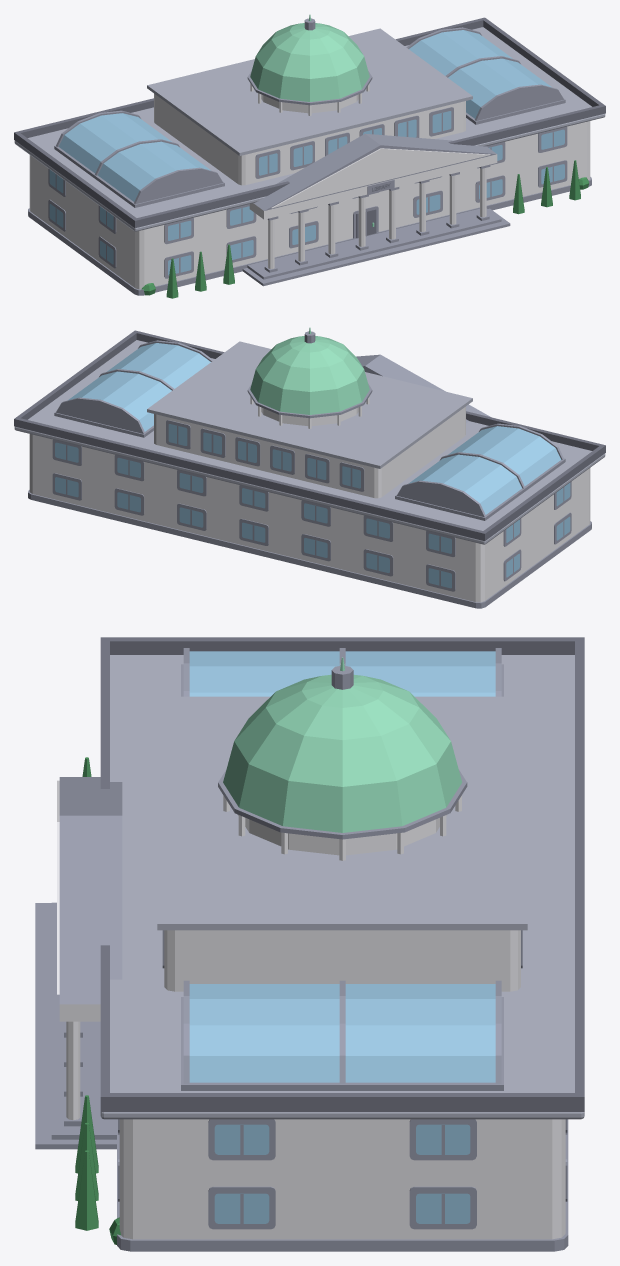
The model's file is library-4x2.glb.
3 views of the same model, one above another, from view 1: azimuth 30°, elevation 25°; view 2: azimuth 150°, elevation 25°; view 3: azimuth 270°, elevation 25° (orthographic). The views are drawn at different scales.
Visible parts, largest first — view 1: library-4x2; view 2: library-4x2; view 3: library-4x2.
Boxes of the visible parts, x1,y1,x2,y2 form: library-4x2: [14, 14, 605, 298]; library-4x2: [14, 327, 605, 608]; library-4x2: [35, 637, 584, 1251].
Size of the model in its own units: 4 by 1.5 by 2.02.
Materials: 1 (1 with a texture image).
